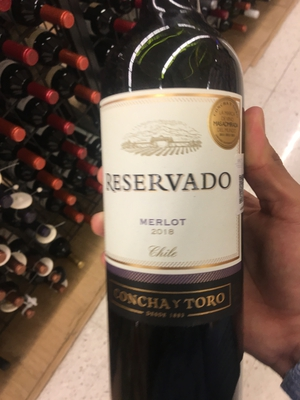reservado merlot: (98, 4, 263, 400)
